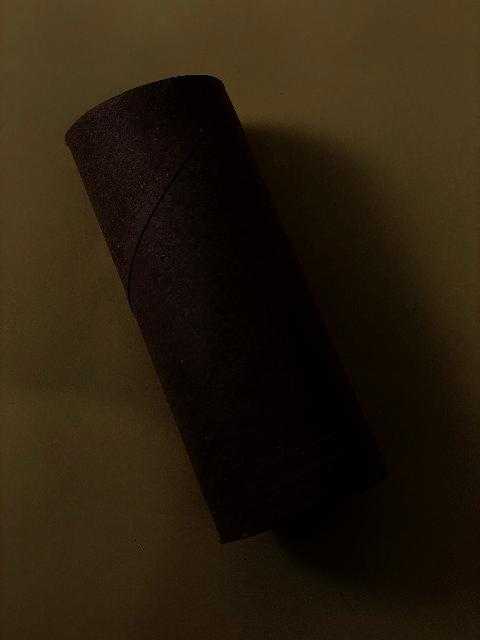tissueroll: (64, 74, 392, 546)
